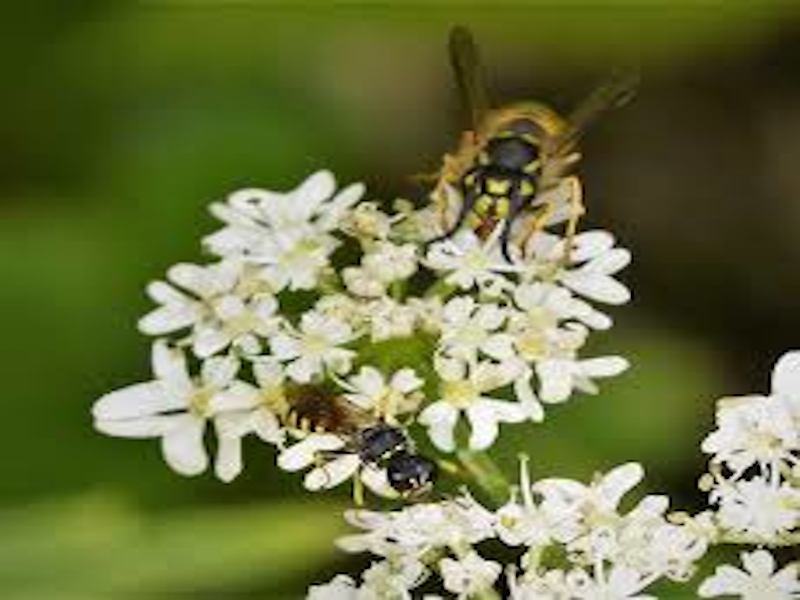chax: (399, 5, 651, 274)
